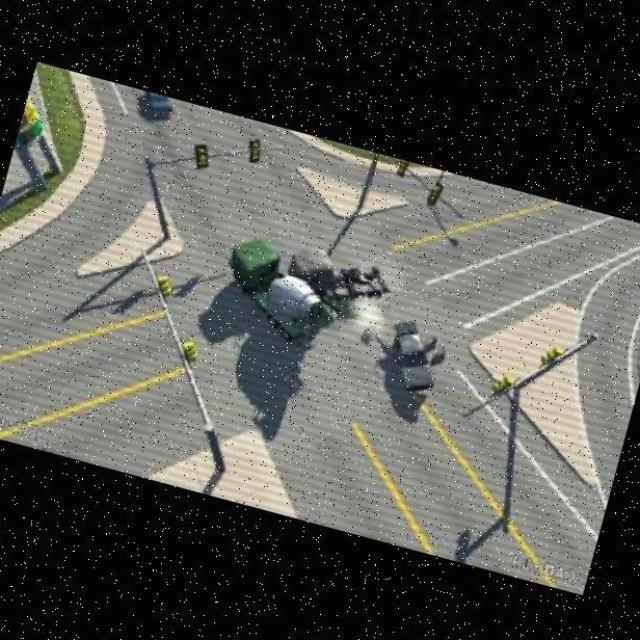accident: (204, 222, 402, 355)
